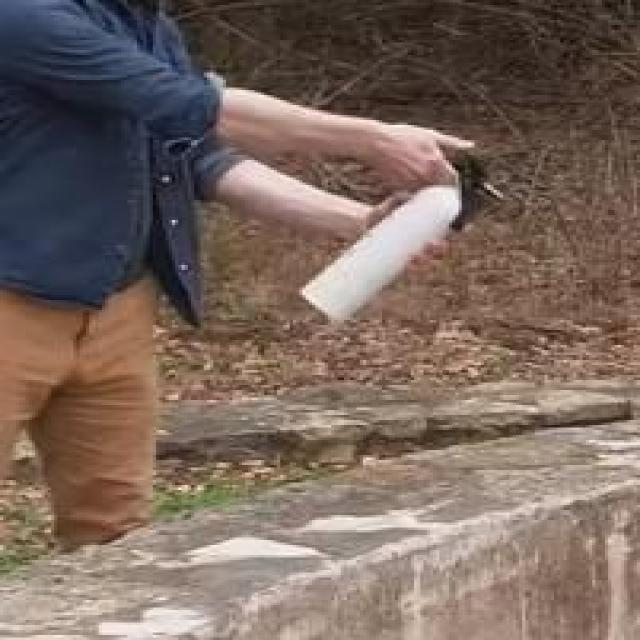fire_extinguisher: (291, 140, 511, 328)
